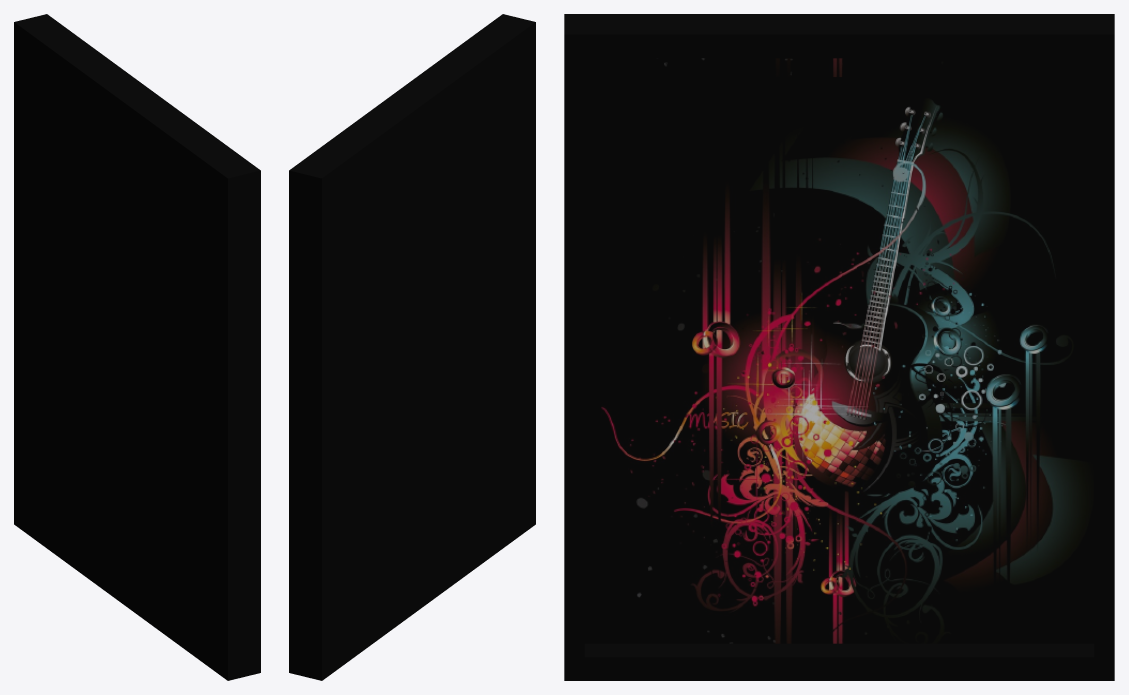
File: Poster3_dark.fbx
3 views of the same model, side by side, from view 1: azimuth 30°, elevation 25°; view 2: azimuth 150°, elevation 25°; view 3: azimuth 270°, elevation 25° (orthographic). The views are drawn at different scales.
Visible parts, largest first — view 1: pCube2; view 2: pCube2; view 3: pCube2.
Part boxes in pixels (x1=…): pCube2: x1=14, y1=14, x2=260, y2=680; pCube2: x1=289, y1=14, x2=535, y2=680; pCube2: x1=564, y1=14, x2=1114, y2=680.
Size of the model in its own units: 0.883 by 12.86 by 9.92.
